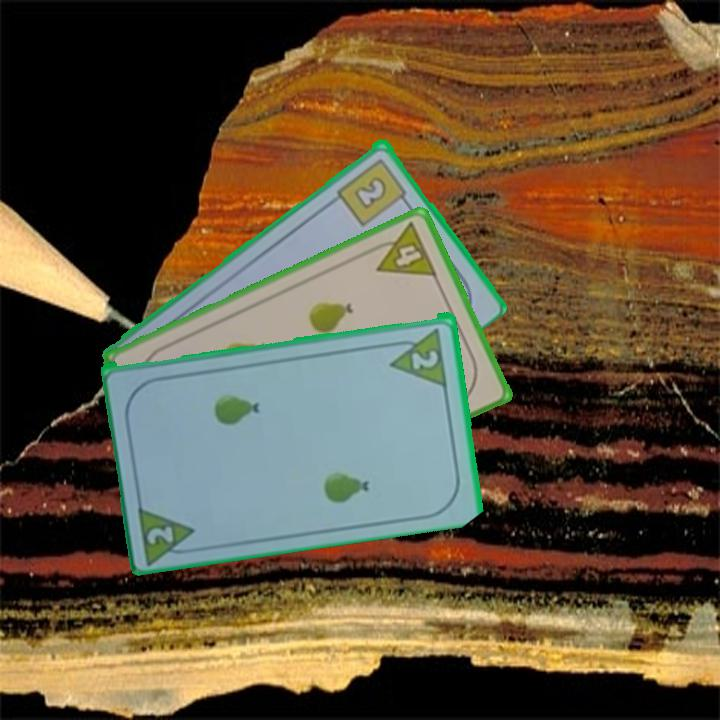2b: (333, 154, 413, 229)
2p: (135, 499, 202, 564), (408, 345, 442, 372)
4p: (364, 219, 440, 280)
